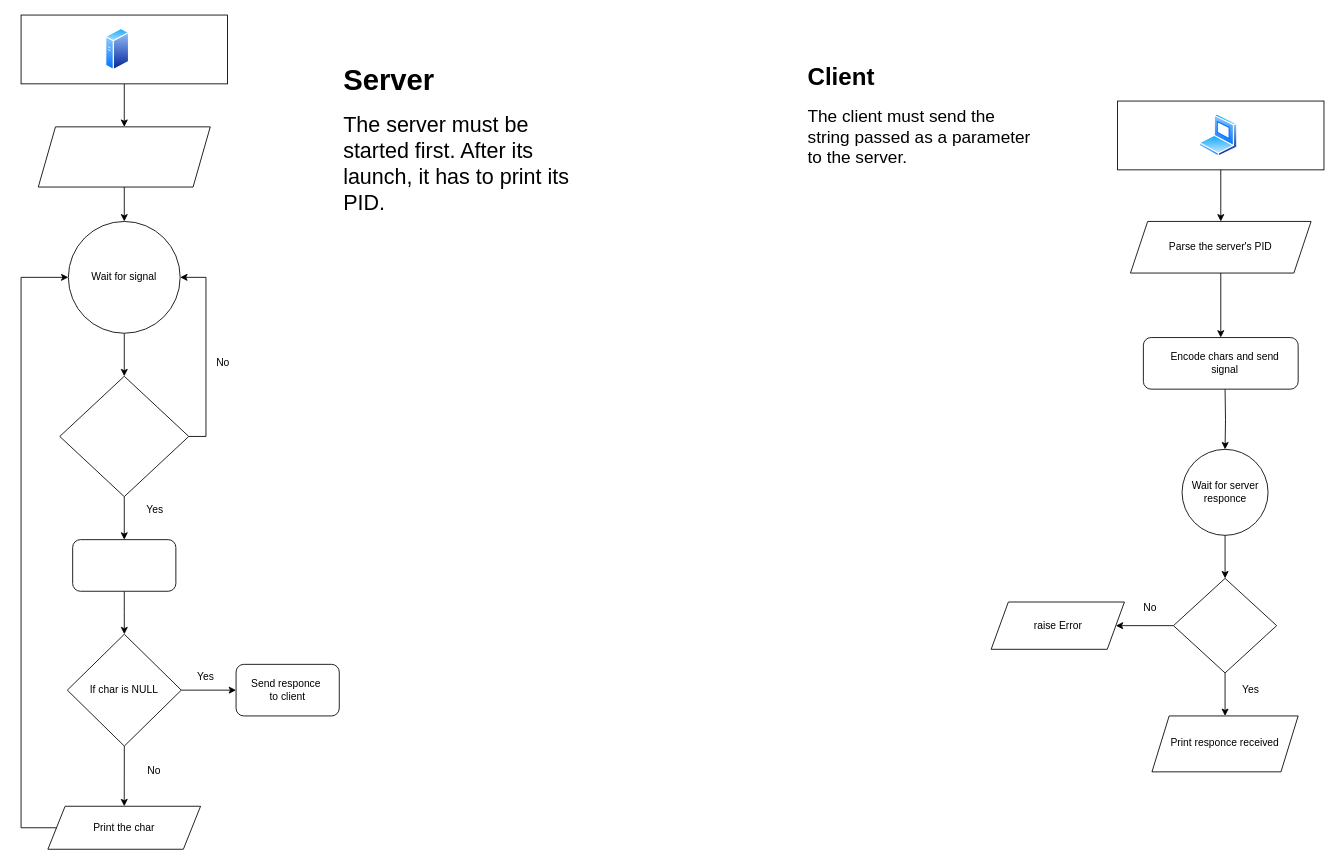
Image size: 1339x864. Some labels were removed from this diagram. Here are the shapes that lost their labels. From the top down, the box of each, then its label:
(37, 126, 210, 187): Spit the PID
(59, 375, 189, 497): If signal received
(72, 539, 176, 591): Decode
(1173, 577, 1277, 673): If responce recived in time
